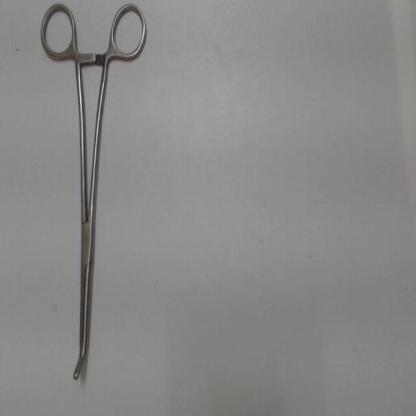Lahey Forceps: (36, 2, 151, 384)
